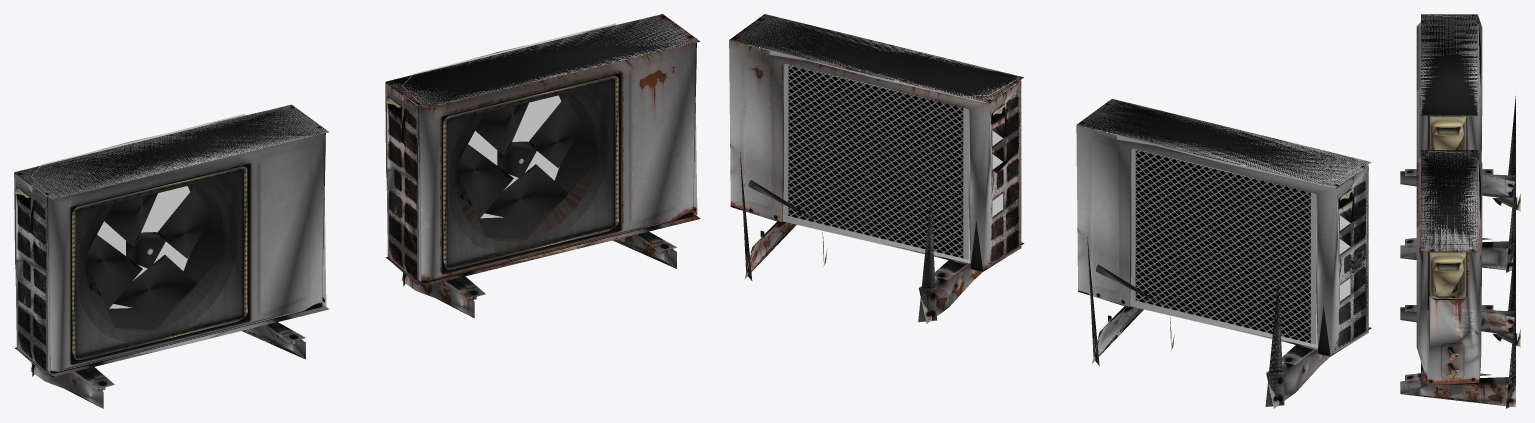
Rendered from exterior_aircon_unit.glb.
The picture shows the model from 3 angles, left to right: view 1: azimuth 30°, elevation 25°; view 2: azimuth 150°, elevation 25°; view 3: azimuth 270°, elevation 25°; orthographic projection. The views are drawn at different scales.
Parts seen in each view (by area): view 1: exterior_aircon_unit_rusted, exterior_aircon_unit; view 2: exterior_aircon_unit_rusted, exterior_aircon_unit; view 3: exterior_aircon_unit_rusted, exterior_aircon_unit.
Part boxes in pixels (x1=…): exterior_aircon_unit_rusted: x1=385, y1=14, x2=700, y2=318; exterior_aircon_unit: x1=14, y1=104, x2=329, y2=408; exterior_aircon_unit_rusted: x1=729, y1=14, x2=1024, y2=323; exterior_aircon_unit: x1=1076, y1=99, x2=1371, y2=408; exterior_aircon_unit_rusted: x1=1400, y1=150, x2=1520, y2=408; exterior_aircon_unit: x1=1400, y1=14, x2=1520, y2=272.
Size of the model in its own units: 1.8 by 0.5876 by 0.3742.
Materials: 4 (4 with a texture image).
